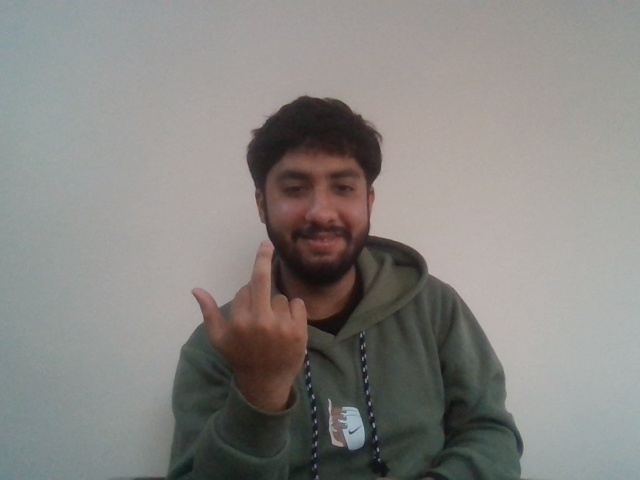Hello: (186, 237, 310, 383)
